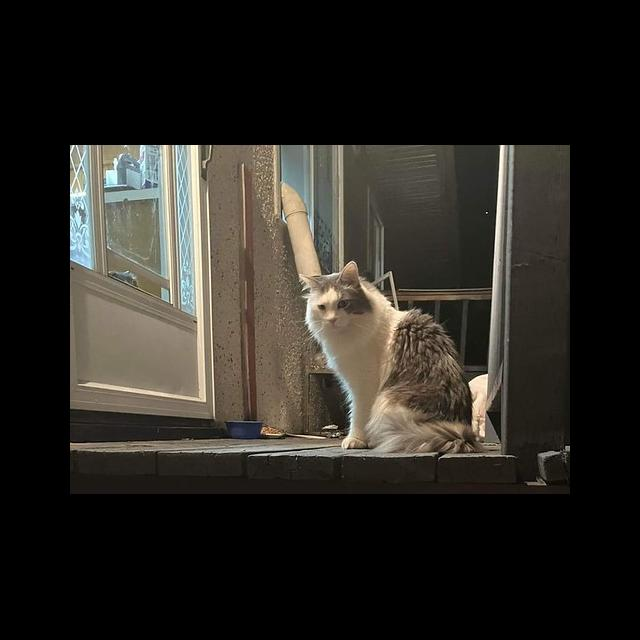animals: (297, 260, 483, 453)
